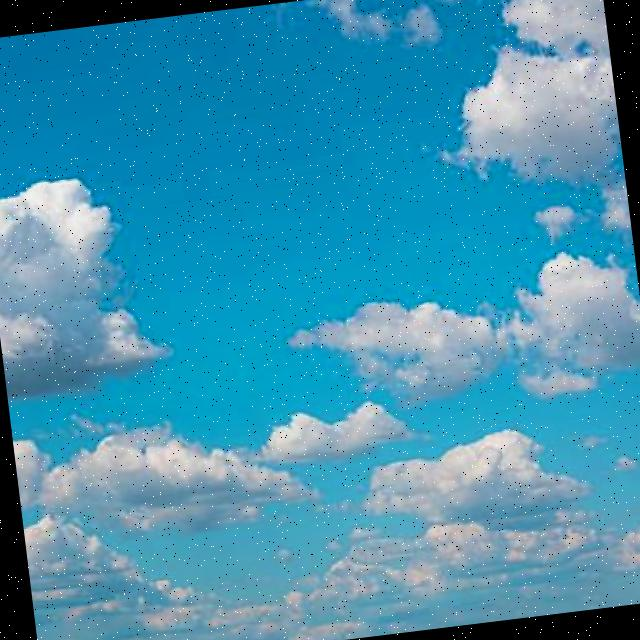Cu: (1, 1, 640, 622)
